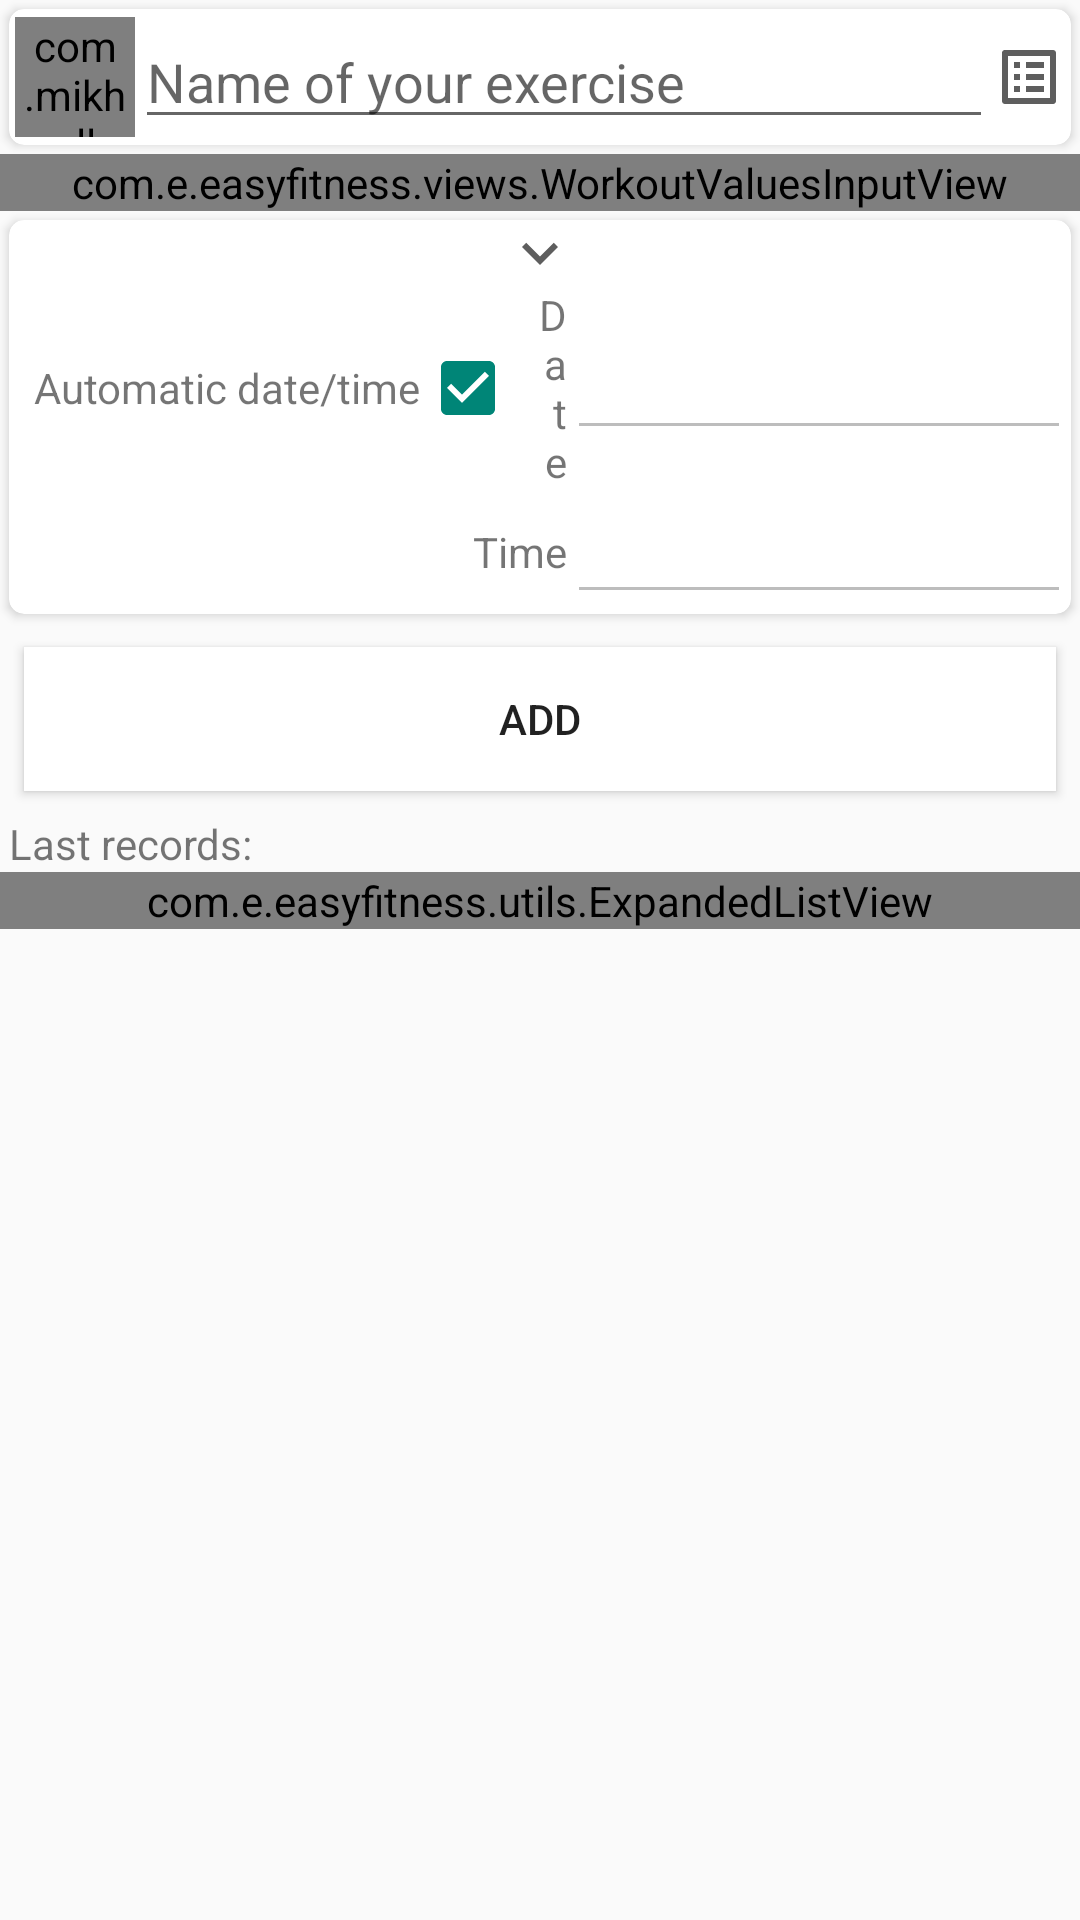

Where to tap for icons on this 1080x1920 app screen, as (x,y):
expand more: (540,254)
list: (1029,77)
